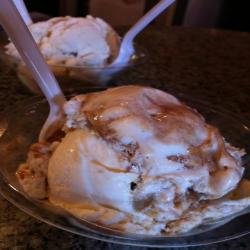icecream: (12, 83, 250, 232), (8, 14, 140, 87)
